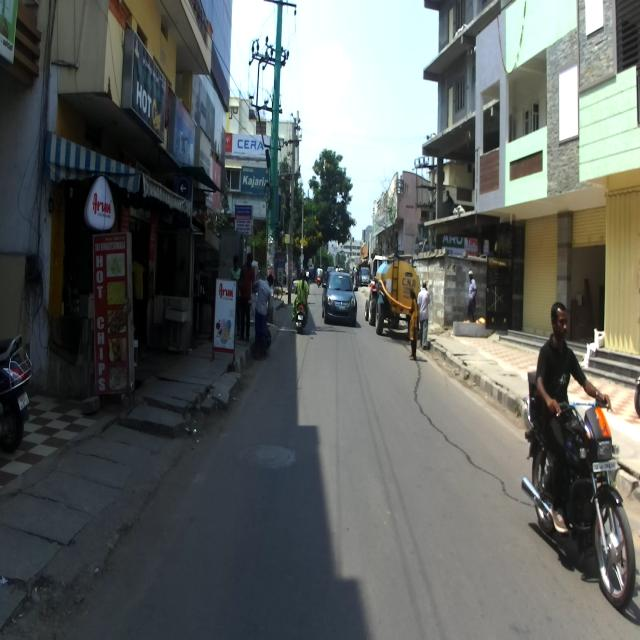car ahead at: (322, 266, 360, 328)
motorcycle ahead at: (522, 391, 636, 609)
person ahead at: (252, 266, 276, 358)
truck ahead at: (363, 258, 417, 332)
